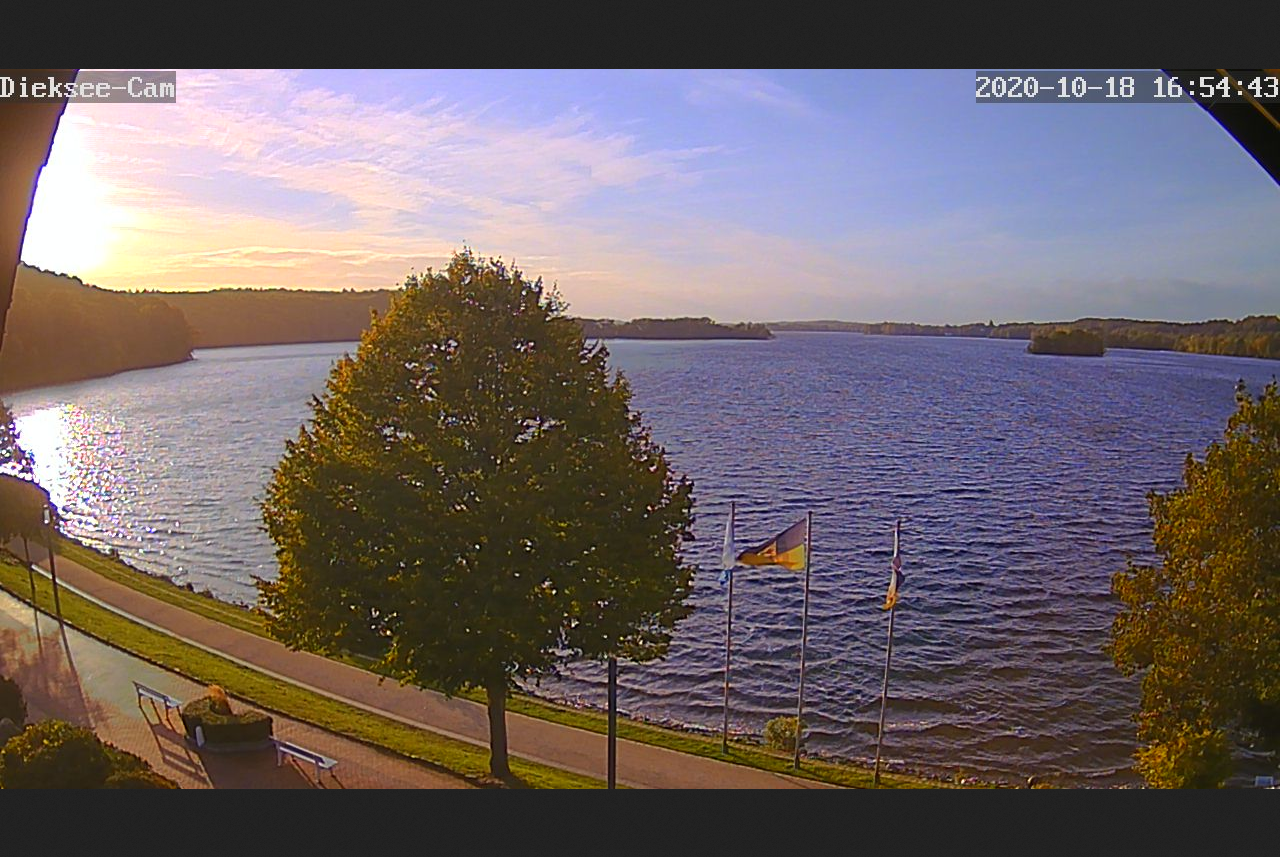no: (716, 504, 741, 597), (883, 532, 904, 616)
yes: (737, 515, 813, 579)
